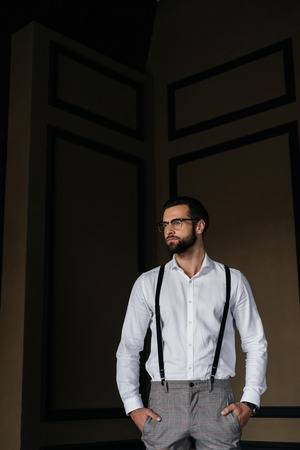F_shirt: (116, 254, 269, 412)
